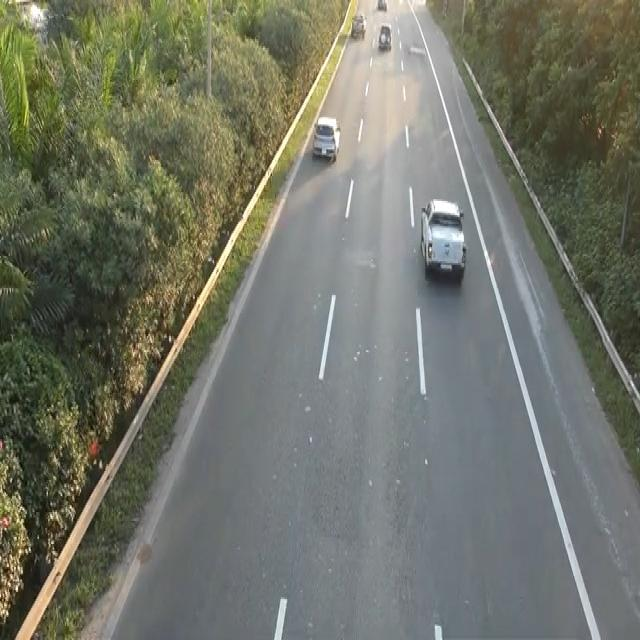car: (417, 194, 470, 288), (349, 11, 366, 39)
